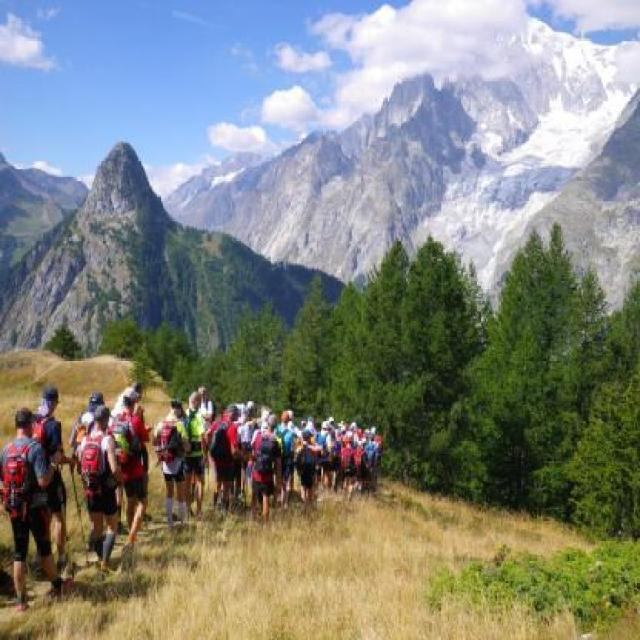backpack: (0, 437, 42, 525), (78, 428, 111, 503), (111, 412, 138, 471), (157, 417, 185, 466), (256, 432, 278, 478), (210, 419, 232, 463), (341, 445, 357, 477), (294, 442, 308, 472)
